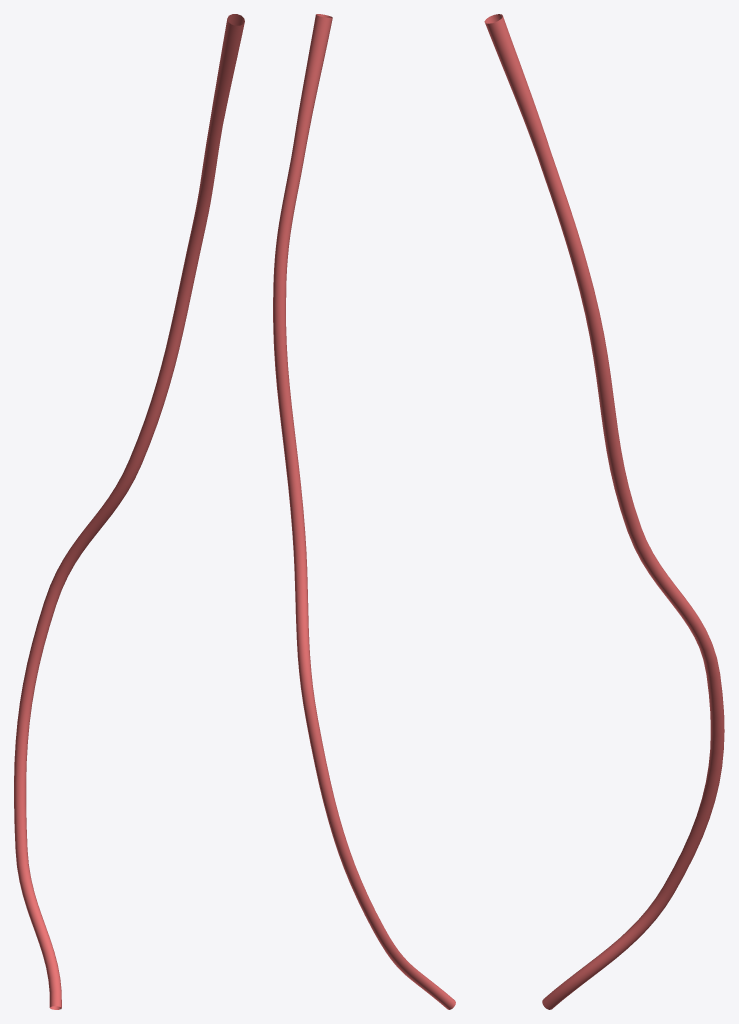
Rendered from Superior_ulnar_collateral_artery.r_BezierCurve.161.glb.
The picture shows the model from 3 angles, left to right: view 1: azimuth 30°, elevation 25°; view 2: azimuth 150°, elevation 25°; view 3: azimuth 270°, elevation 25°; orthographic projection. The views are drawn at different scales.
Parts seen in each view (by area): view 1: Superior_ulnar_collateral_artery.r_BezierCurve.161; view 2: Superior_ulnar_collateral_artery.r_BezierCurve.161; view 3: Superior_ulnar_collateral_artery.r_BezierCurve.161.
Part boxes in pixels (left/top/right/bottom): Superior_ulnar_collateral_artery.r_BezierCurve.161: left=14, top=14, right=244, bottom=1009; Superior_ulnar_collateral_artery.r_BezierCurve.161: left=273, top=14, right=455, bottom=1009; Superior_ulnar_collateral_artery.r_BezierCurve.161: left=484, top=14, right=724, bottom=1009.
Bounding box in the file's own units: 0.0222 × 0.1199 × 0.0242.
